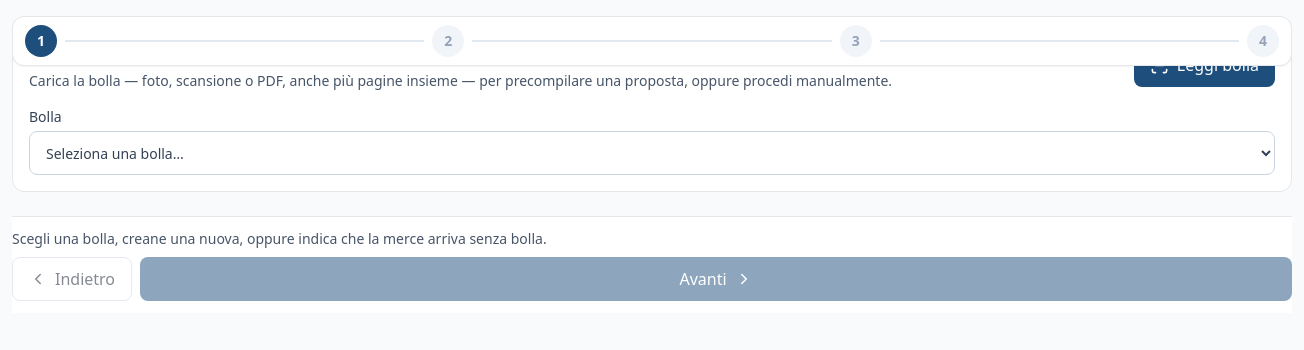
Test case: ReceiveForm su telefono › non lascia avanzare finché non si è scelta una bolla, e dice perché
The image size is (1304, 350).
Expected: the button "Avanti" is disabled, [140, 257, 1292, 301]
Expected: the text "Scegli una bolla" is shown, [12, 229, 547, 248]
Select "Senza bolla (aggiungi il numero dopo)" in the dropdown labelled "Bolla". click: (652, 153)
box: [29, 131, 1275, 175]
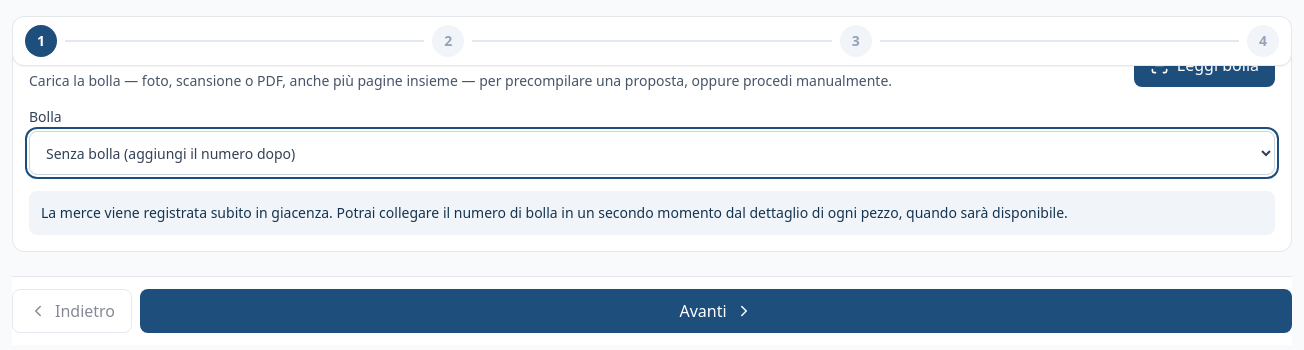
Expected: the button "Avanti" is enabled
Click the button "Avanti". click: click(716, 311)
box: [140, 289, 1292, 333]
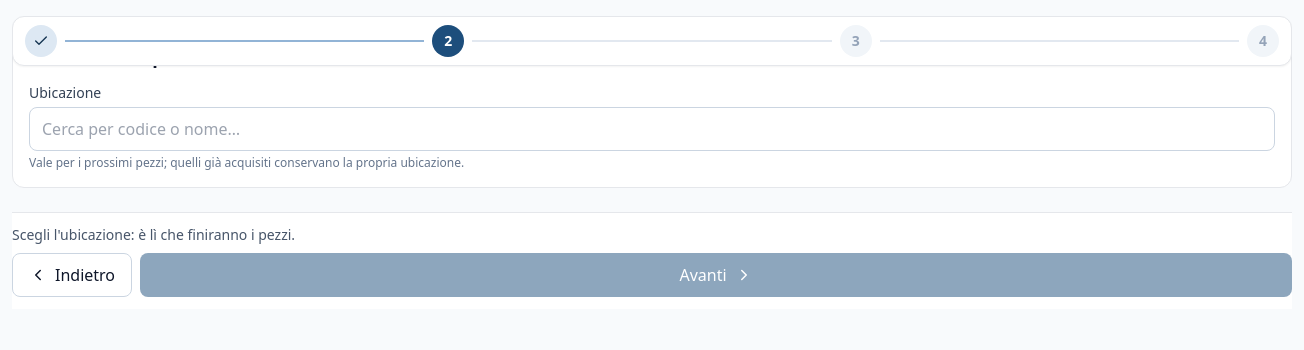
Expected: the heading "2. Ubicazione predefinita" is shown, [29, 45, 253, 69]
Expected: the heading "1. Bolla" is gone
